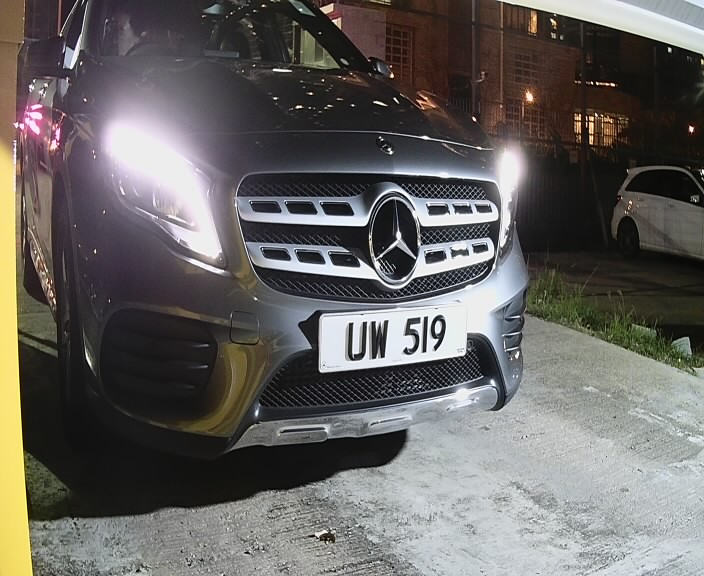Car: (25, 3, 526, 517)
License Plate: (309, 297, 472, 379)
